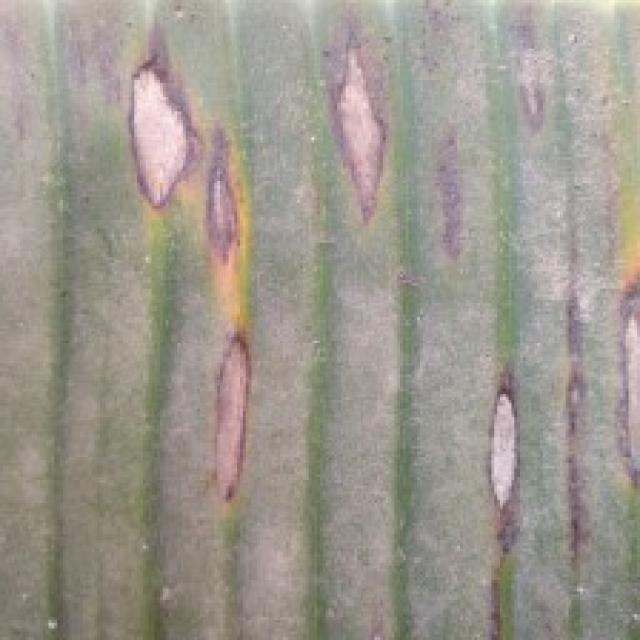Early_leaf_spot: (96, 23, 260, 262), (174, 325, 270, 526), (318, 15, 407, 220), (582, 207, 640, 502), (458, 372, 531, 568), (425, 111, 484, 292), (494, 5, 568, 141), (551, 363, 594, 560)
